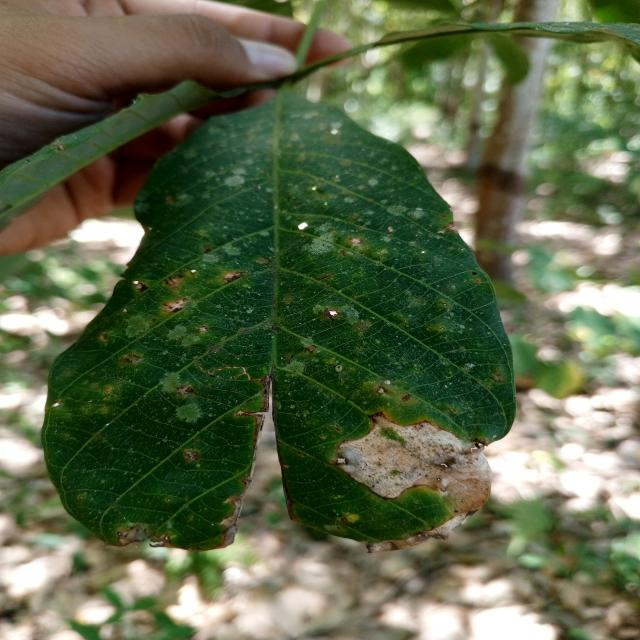Colletotrichum: (117, 531, 123, 537), (442, 302, 448, 307), (440, 326, 446, 331), (440, 488, 447, 492), (166, 497, 171, 502), (79, 495, 84, 500), (436, 478, 441, 482)
Leaf-Blight: (334, 412, 492, 516), (367, 511, 478, 552)
